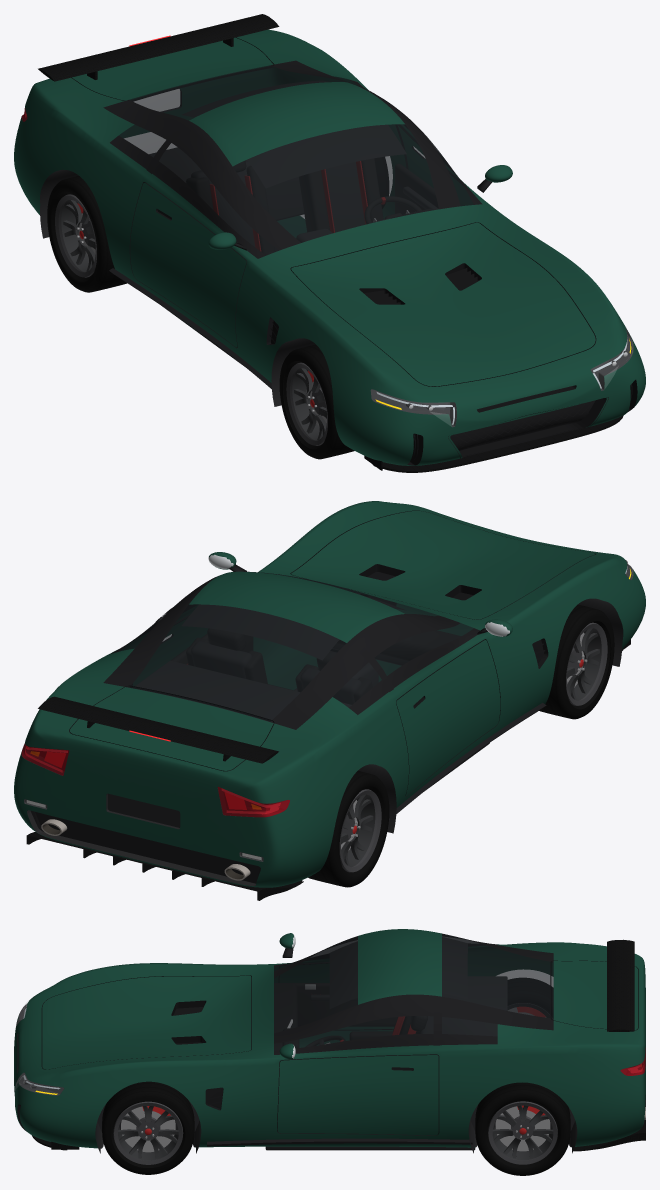
Rendered from RavenXR_complete_unity.fbx.
3 views of the same model, one above another, from view 1: azimuth 30°, elevation 25°; view 2: azimuth 150°, elevation 25°; view 3: azimuth 270°, elevation 25° (orthographic). The views are drawn at different scales.
Parts seen in each view (by area): view 1: Body_LOD0, Glass_LOD0, Interior_LOD0, Trim_LOD0, Tire_RR_LOD0, Tire_FR_LOD0, Wheel_RR_LOD0, Wheel_FR_LOD0, Lights_LOD0; view 2: Body_LOD0, Glass_LOD0, Interior_LOD0, Trim_LOD0, Tire_FR_LOD0, Tire_RR_LOD0, Wheel_RR_LOD0, Lights_LOD0, Wheel_FR_LOD0; view 3: Body_LOD0, Glass_LOD0, Interior_LOD0, Trim_LOD0, Tire_RL_LOD0, Tire_FL_LOD0, Wheel_RL_LOD0, Wheel_FL_LOD0, Tire_RR_LOD0, BrakeDisc_FL_LOD0, BrakeDisc_RL_LOD0, Lights_LOD0.
Boxes of the visible parts, left/top/right/bottom form: Body_LOD0: left=14, top=29, right=645, bottom=465; Glass_LOD0: left=119, top=65, right=473, bottom=255; Interior_LOD0: left=149, top=80, right=438, bottom=366; Trim_LOD0: left=38, top=14, right=632, bottom=472; Tire_RR_LOD0: left=47, top=176, right=126, bottom=292; Tire_FR_LOD0: left=279, top=344, right=354, bottom=459; Wheel_RR_LOD0: left=55, top=194, right=96, bottom=277; Wheel_FR_LOD0: left=286, top=362, right=327, bottom=445; Lights_LOD0: left=21, top=35, right=632, bottom=425; Body_LOD0: left=14, top=501, right=645, bottom=887; Glass_LOD0: left=119, top=571, right=473, bottom=721; Interior_LOD0: left=135, top=596, right=489, bottom=790; Trim_LOD0: left=26, top=596, right=630, bottom=900; Tire_FR_LOD0: left=539, top=604, right=614, bottom=719; Tire_RR_LOD0: left=308, top=771, right=389, bottom=887; Wheel_RR_LOD0: left=339, top=789, right=381, bottom=872; Lights_LOD0: left=21, top=560, right=632, bottom=860; Wheel_FR_LOD0: left=566, top=622, right=607, bottom=705; Body_LOD0: left=14, top=929, right=645, bottom=1148; Glass_LOD0: left=274, top=933, right=553, bottom=1050; Interior_LOD0: left=265, top=937, right=507, bottom=1150; Trim_LOD0: left=14, top=939, right=645, bottom=1153; Tire_RL_LOD0: left=475, top=1082, right=570, bottom=1175; Tire_FL_LOD0: left=102, top=1081, right=194, bottom=1174; Wheel_RL_LOD0: left=488, top=1101, right=557, bottom=1164; Wheel_FL_LOD0: left=113, top=1101, right=183, bottom=1164; Tire_RR_LOD0: left=508, top=978, right=553, bottom=1018; BrakeDisc_FL_LOD0: left=121, top=1106, right=175, bottom=1152; BrakeDisc_RL_LOD0: left=495, top=1106, right=550, bottom=1151; Lights_LOD0: left=16, top=1002, right=645, bottom=1094.
Size of what is drawn, in the model's own units: 2.05 by 1.32 by 4.52.
Materials: 15 (3 with a texture image).
